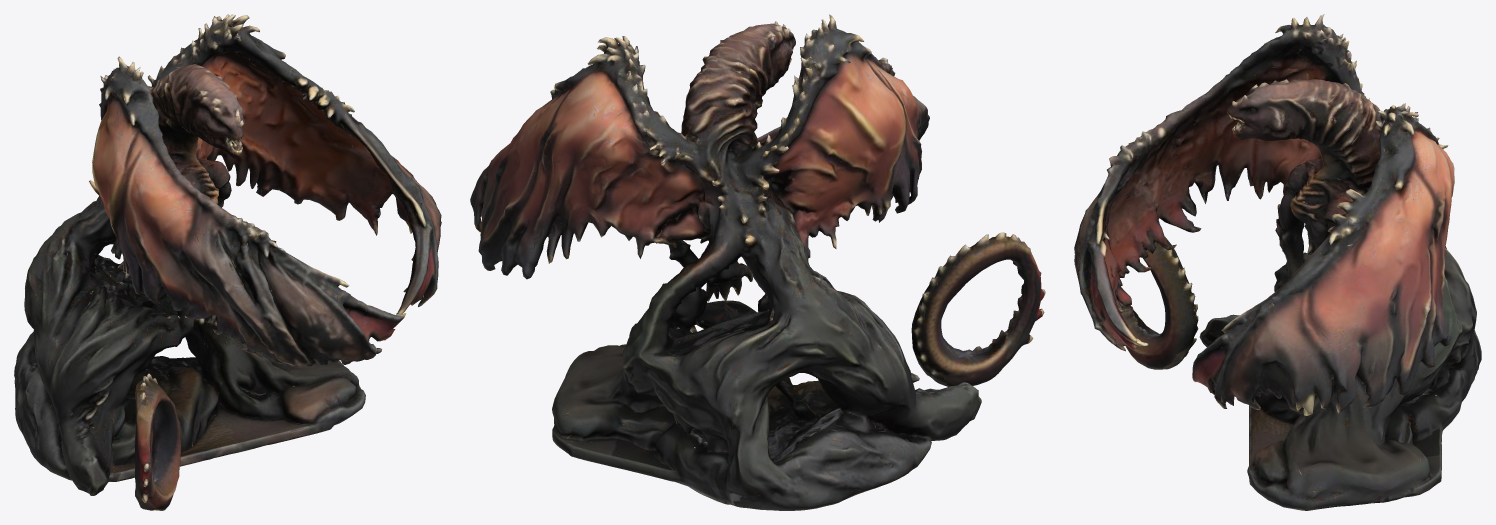
The model's file is Areshkeged_final.glb.
3 views of the same model, side by side, from view 1: azimuth 30°, elevation 25°; view 2: azimuth 150°, elevation 25°; view 3: azimuth 270°, elevation 25° (orthographic). The views are drawn at different scales.
Visible parts, largest first — view 1: Mesh_0; view 2: Mesh_0; view 3: Mesh_0.
Part boxes in pixels (box(x1,y1,x2,y2)): Mesh_0: box(14, 14, 441, 510); Mesh_0: box(470, 14, 1045, 510); Mesh_0: box(1074, 14, 1481, 510).
Size of the model in its own units: 3.21 by 3 by 2.85.
1 material, 1 textured.
